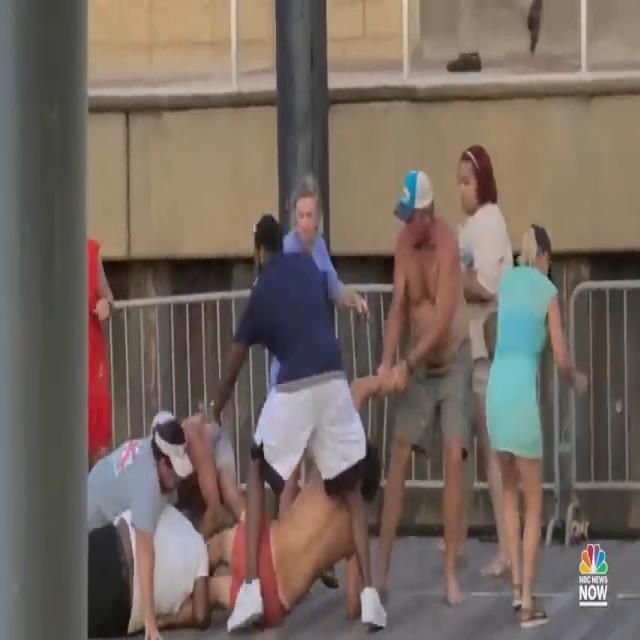fight: (88, 163, 473, 640)
non-fight: (459, 132, 586, 640)
